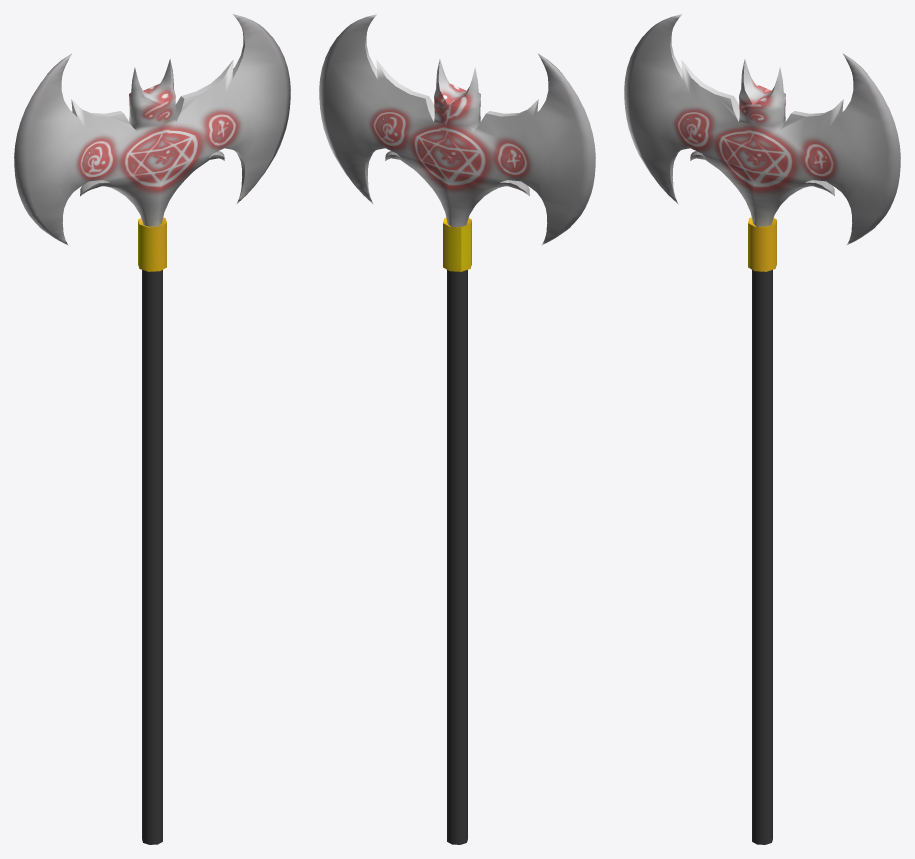
File: 敵人武器.FBX
3 renders of one model, left to right at view 1: azimuth 30°, elevation 25°; view 2: azimuth 150°, elevation 25°; view 3: azimuth 330°, elevation 25°, orthographic.
Parts seen in each view (by area): view 1: Cylinder002; view 2: Cylinder002; view 3: Cylinder002.
Boxes of the visible parts, x1,y1,x2,y2 form: Cylinder002: (14,14,290,844); Cylinder002: (319,14,595,844); Cylinder002: (624,14,900,844).
Bounding box in the file's own units: 18.1 × 50.45 × 2.19.
1 material, 1 textured.
